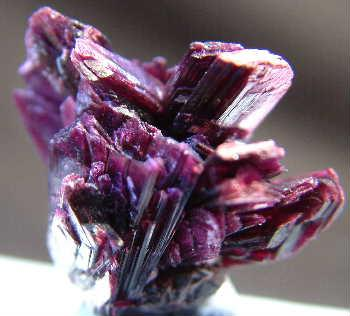erythrite: (14, 7, 345, 306)
